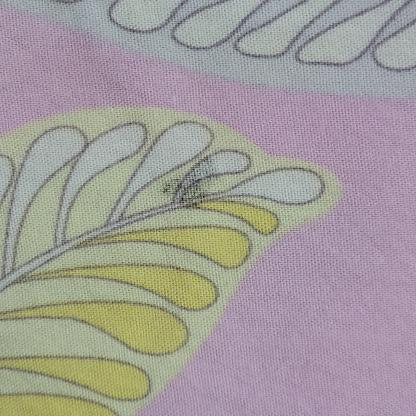spot: (148, 136, 230, 217)
